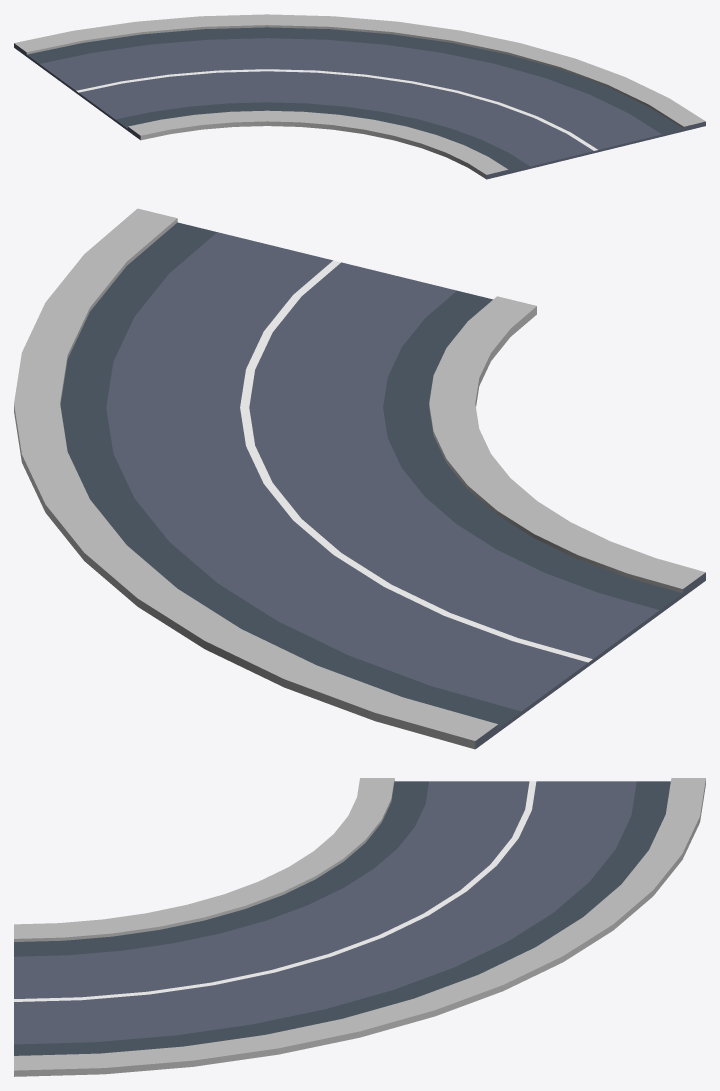
File: SM_Road_Curve.fbx
3 views of the same model, one above another, from view 1: azimuth 30°, elevation 25°; view 2: azimuth 150°, elevation 25°; view 3: azimuth 270°, elevation 25° (orthographic). The views are drawn at different scales.
Parts seen in each view (by area): view 1: SM_Road_Curve; view 2: SM_Road_Curve; view 3: SM_Road_Curve.
Part boxes in pixels (bbox=[...]): SM_Road_Curve: bbox=[14, 14, 705, 179]; SM_Road_Curve: bbox=[14, 208, 705, 749]; SM_Road_Curve: bbox=[14, 778, 705, 1076].
Size of the model in its own units: 2000 by 20 by 2000.
